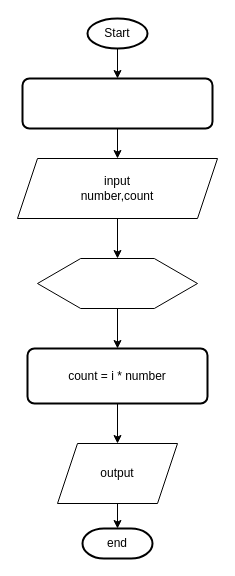
Some shapes in this 235 by 576 pixel diagram are drawn without their labels. Here are the shapes that lost their labels. From the top down, the centre of each, then its label:
At point 117,103: "initialization count,i,number".
At point 117,283: "for i=1;i<=10".
